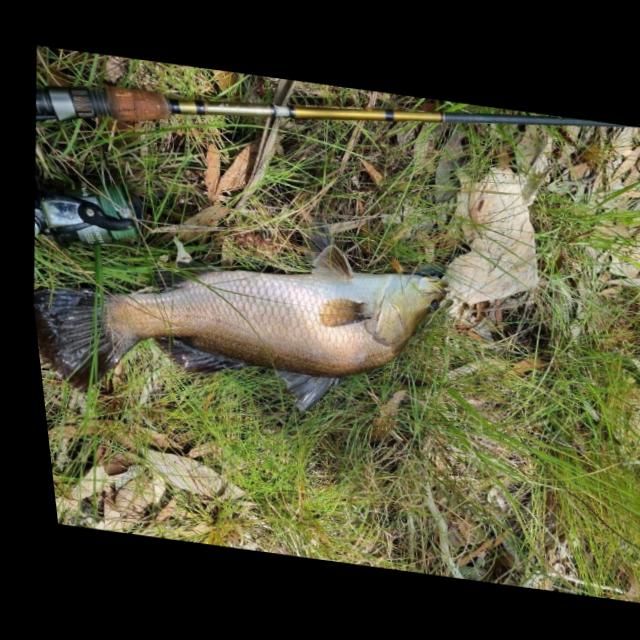Seabass: (22, 202, 472, 437)
